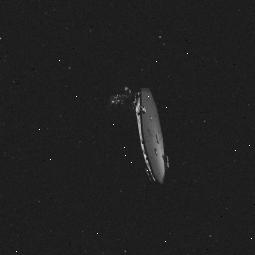lisa_pathfinder: (92, 77, 179, 186)
